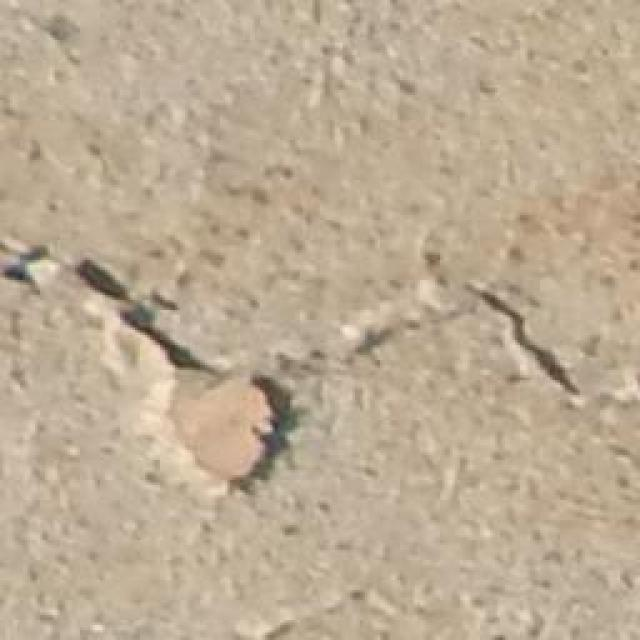concrete-crack: (0, 218, 596, 499)
